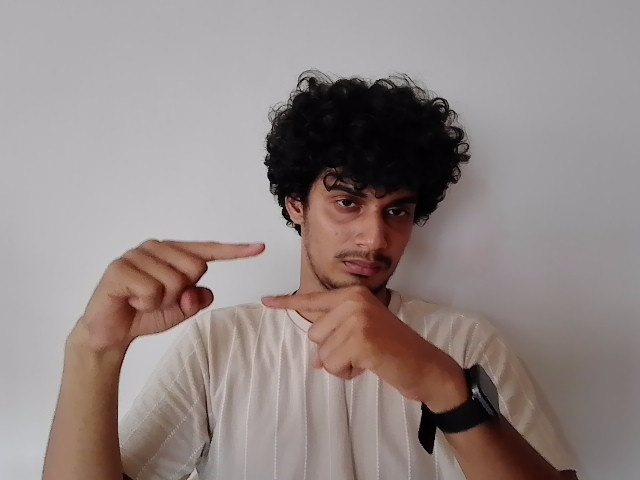about: (67, 238, 401, 385)
